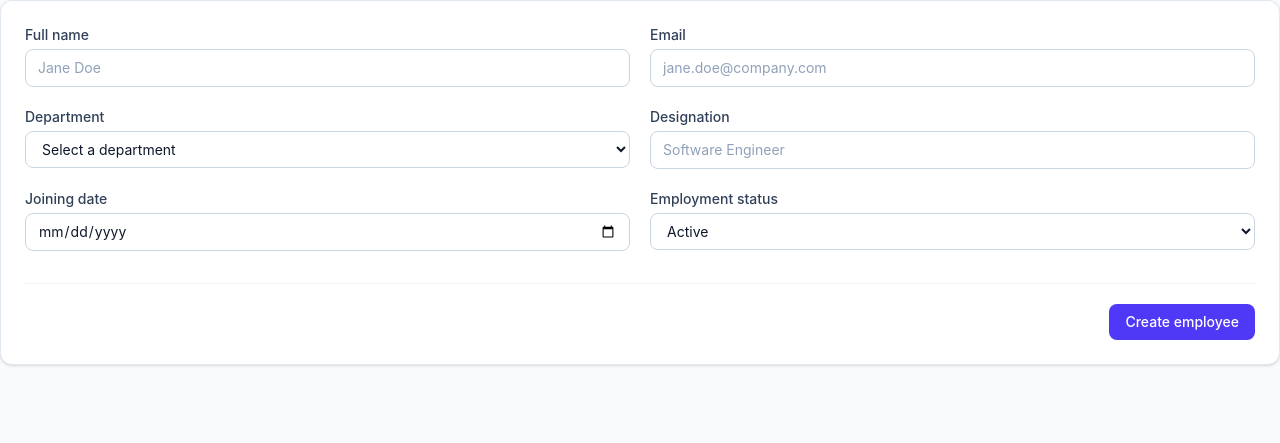
Test: EmployeeForm › shows validation errors and does not submit when the form is empty
Click the button "Create employee" at (1182, 322), box [1109, 304, 1255, 340]
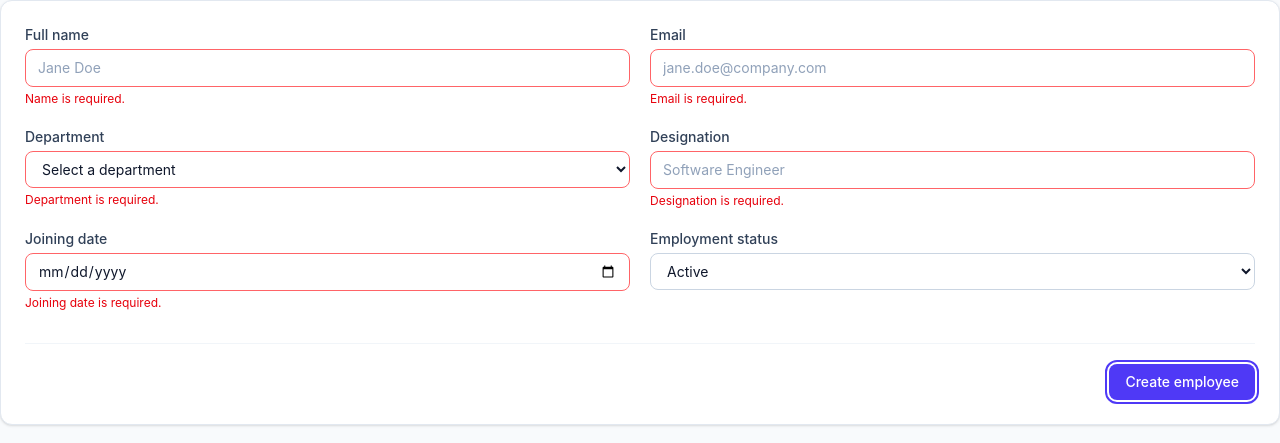
expect the text "Name is required." is shown: met, box [25, 91, 125, 106]
expect the text "Email is required." is shown: met, box [650, 91, 747, 106]
expect the text "Department is required." is shown: met, box [25, 192, 159, 207]
